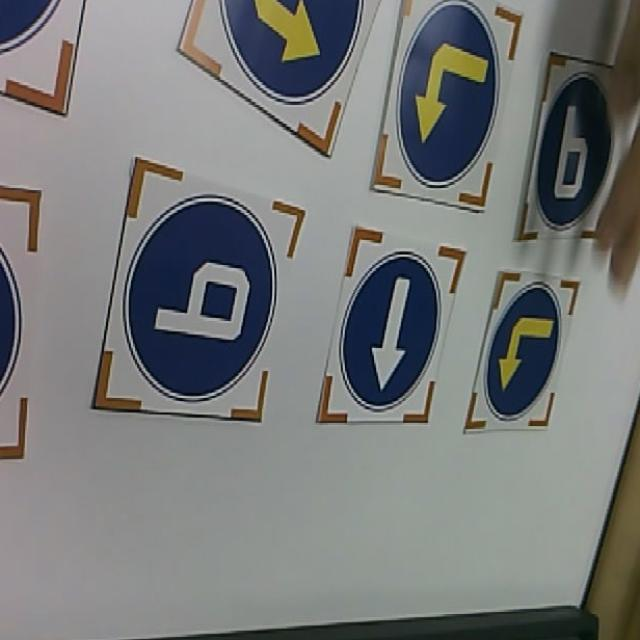parking: (87, 160, 302, 426), (519, 51, 639, 244)
straight: (324, 220, 472, 426)
turn: (178, 0, 386, 157), (368, 0, 520, 208), (462, 264, 580, 432)
